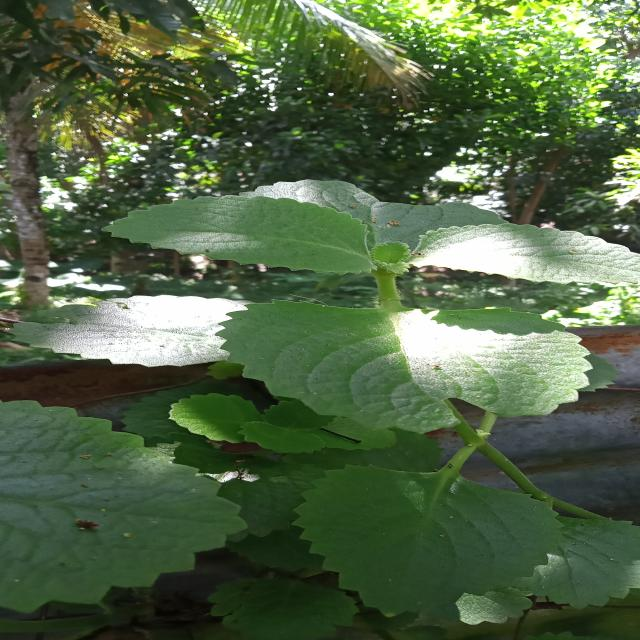Oregano: (52, 132, 640, 445), (175, 263, 640, 463), (295, 420, 640, 640), (158, 274, 640, 420), (220, 148, 640, 312), (0, 380, 264, 640), (285, 462, 571, 620), (73, 190, 435, 284)
